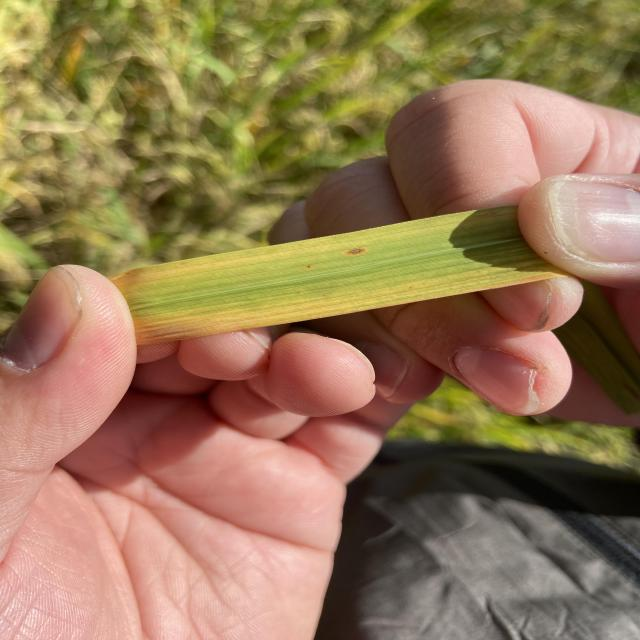Dom nau: (348, 249, 362, 254), (307, 265, 310, 268)
